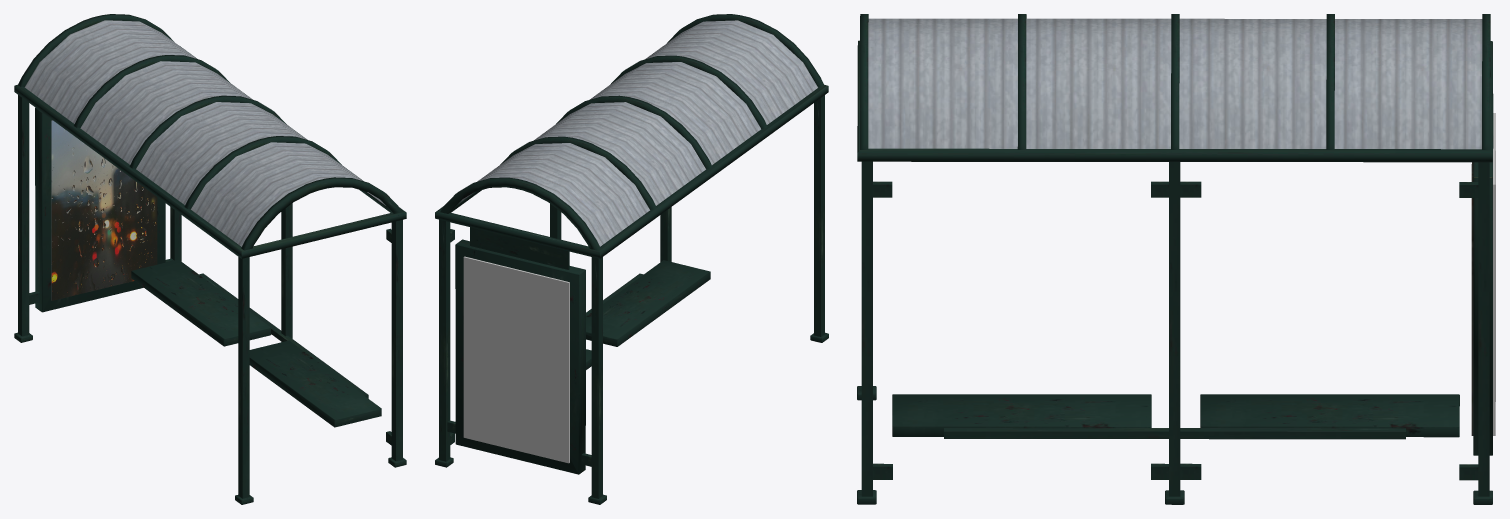
Rendered from Busstop.fbx.
3 views of the same model, side by side, from view 1: azimuth 30°, elevation 25°; view 2: azimuth 150°, elevation 25°; view 3: azimuth 270°, elevation 25° (orthographic). The views are drawn at different scales.
Parts seen in each view (by area): view 1: polymsh; view 2: polymsh; view 3: polymsh.
Boxes of the visible parts, left/top/right/bottom form: polymsh: left=14, top=14, right=406, bottom=504; polymsh: left=435, top=14, right=828, bottom=504; polymsh: left=857, top=14, right=1495, bottom=504.
Bounding box in the file's own units: 1.73 × 3.02 × 4.15.
